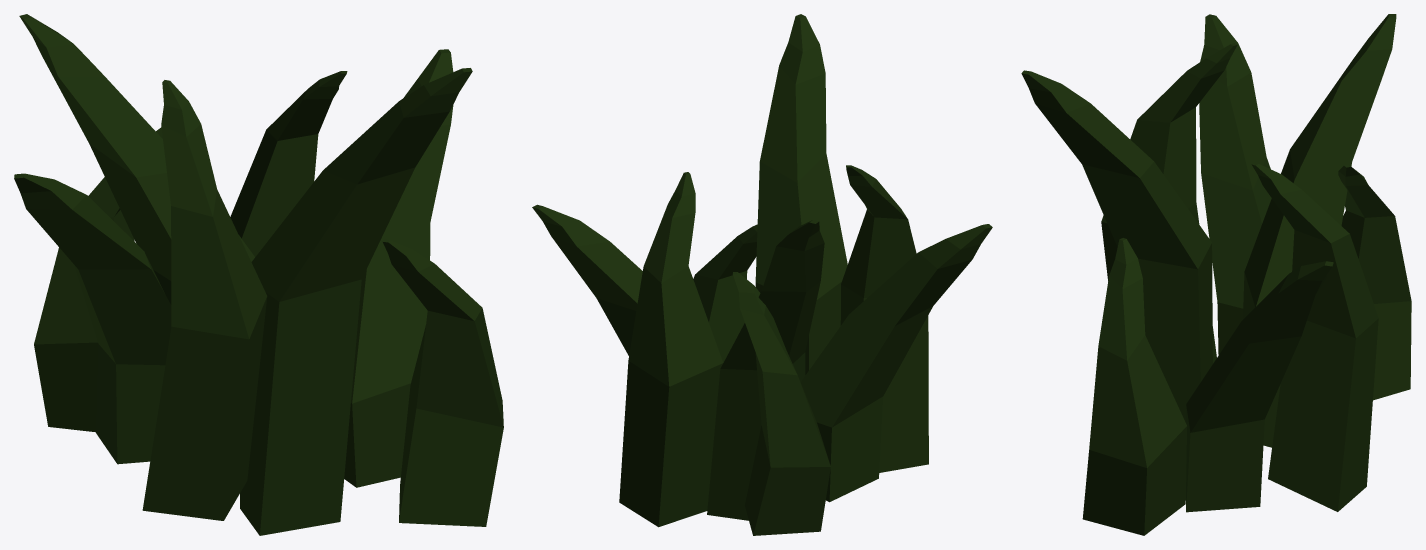
File: Grass.fbx
The picture shows the model from 3 angles, left to right: view 1: azimuth 30°, elevation 25°; view 2: azimuth 150°, elevation 25°; view 3: azimuth 270°, elevation 25°; orthographic projection. The views are drawn at different scales.
Visible parts, largest first — view 1: gRAZZ; view 2: gRAZZ; view 3: gRAZZ.
Boxes of the visible parts, x1,y1,x2,y2 form: gRAZZ: (14, 14, 503, 535); gRAZZ: (532, 14, 992, 535); gRAZZ: (1021, 14, 1411, 535).
Size of the model in its own units: 1.47 by 1.37 by 1.14.
